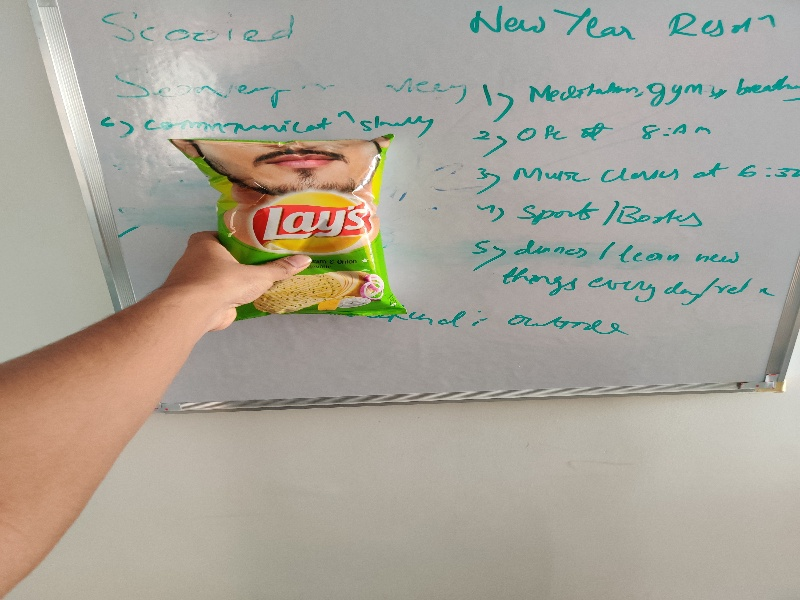lays: (170, 123, 409, 323)
